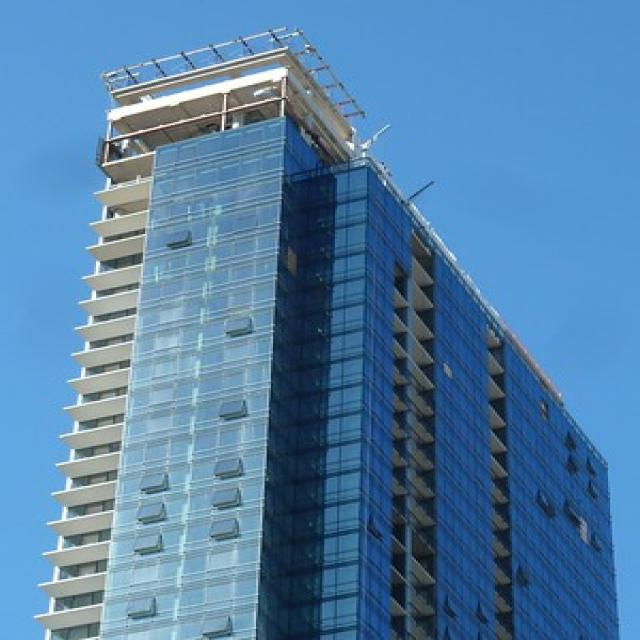Normal_building: (25, 22, 624, 640)
